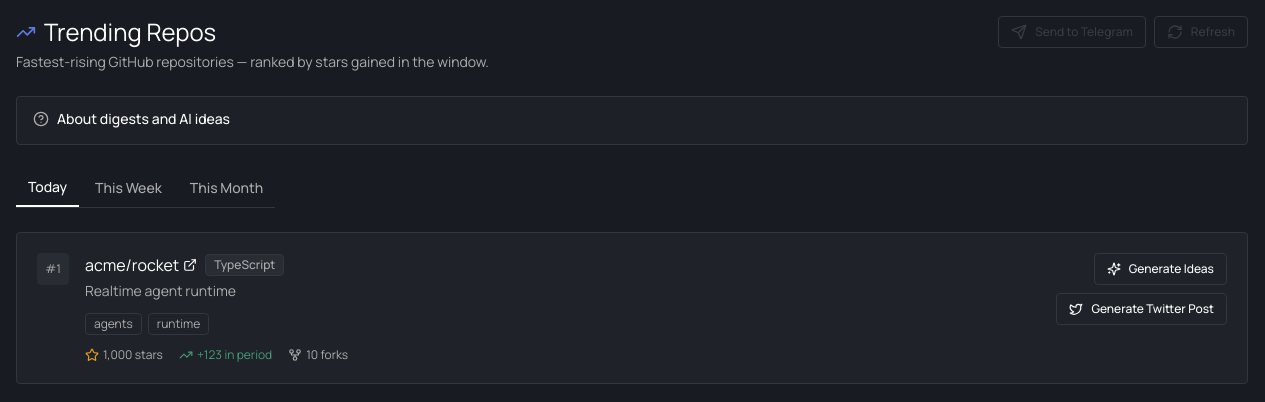
Scenario: TrendingReposPage › shows the backend generation error instead of a generic fallback message
Check: the link "acme/rocket" is shown, box [85,253,197,277]
Click the button "Generate Ideas": {"x": 1160, "y": 269} [1094,253,1227,285]
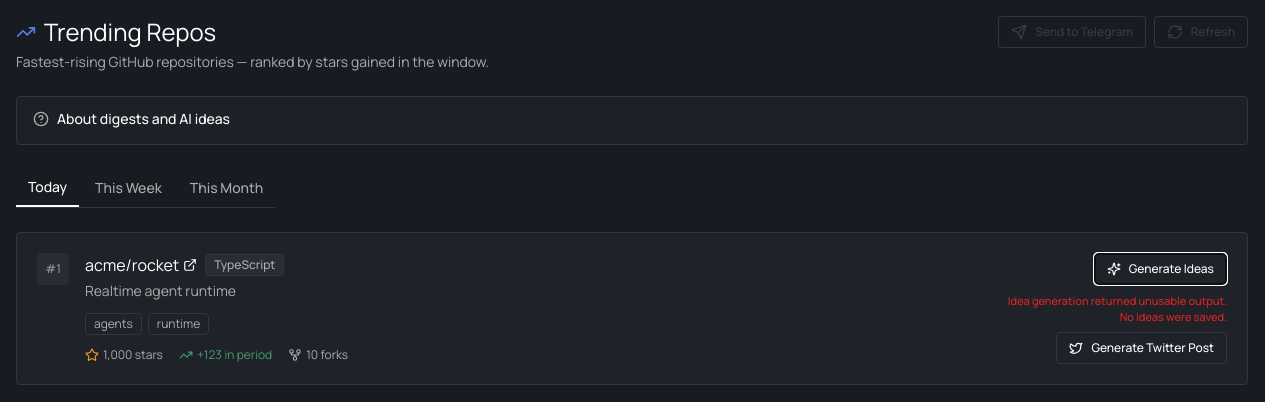
Check: the text "Idea generation returned unusable output. No ideas were saved." is shown, box [1003,293,1227,324]
